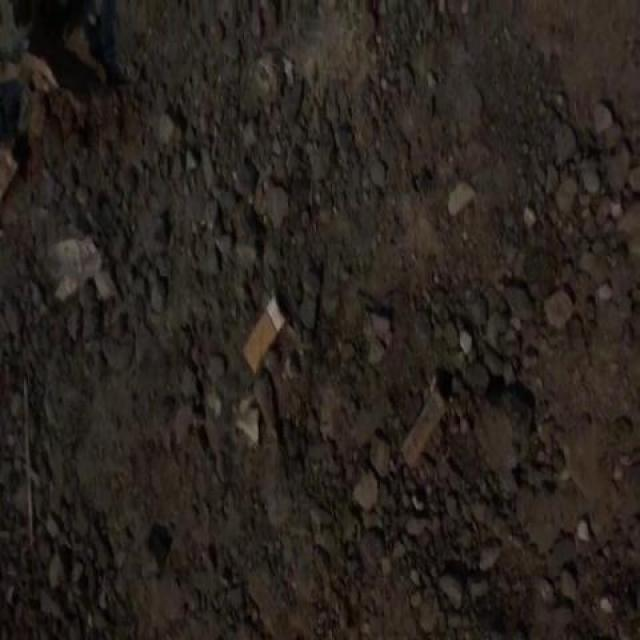non-organic waste: (239, 294, 289, 382)
